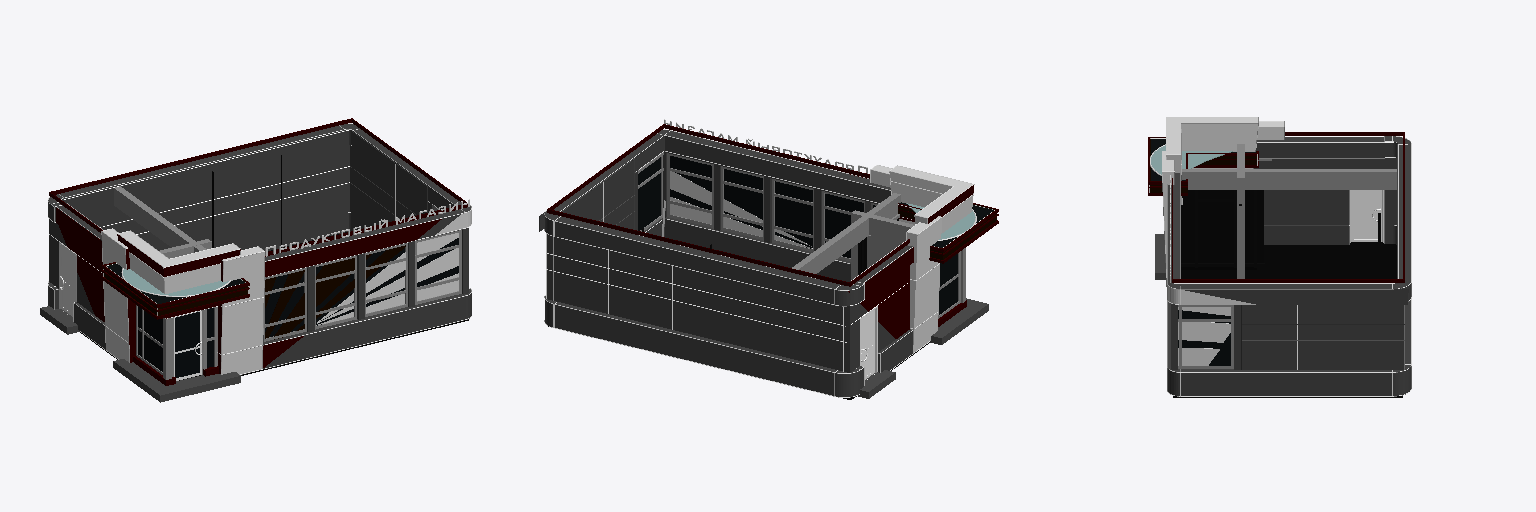
The model's file is busStation.obj.
The picture shows the model from 3 angles: view 1: azimuth 30°, elevation 25°; view 2: azimuth 150°, elevation 25°; view 3: azimuth 270°, elevation 25°; orthographic projection.
Parts seen in each view (by area): view 1: Box714, Line10, Box725, Box710, Line58, Box929, Line35, Line30, Line05, Line03, Box676, Line06 (+26 smaller); view 2: Box714, Line58, Line10, Box691, Box929, Line35, Line05, Box725, Box676, Line06, Box707, Box911 (+11 smaller); view 3: Box725, Line10, Line58, Box02, Box911, Box687, Box676, Line05, Line20, Line35, Line57, Box707 (+7 smaller).
Part boxes in pixels (x1,y1,x2,y2): Box714: (62,130,349,250); Line10: (48,213,471,368); Box725: (350,131,426,230); Box710: (218,247,264,374); Line58: (48,124,471,260); Box929: (102,229,135,362); Line35: (49,118,467,256); Line30: (265,219,441,276); Line05: (119,231,239,293); Line03: (113,359,240,402); Box676: (114,186,206,252); Line06: (58,224,104,321); Box714: (547,234,842,370); Line58: (545,130,912,305); Line10: (545,217,912,396); Box691: (670,156,812,248); Box929: (907,216,941,351); Line35: (547,124,909,286); Line05: (890,166,972,233); Box725: (563,160,633,229); Box676: (792,193,900,273); Line06: (848,266,909,338); Box707: (851,210,914,279); Box911: (844,303,895,372); Box725: (1242,305,1399,369); Line10: (1168,225,1410,395); Line58: (1168,136,1410,304); Box02: (1181,242,1396,278); Box911: (1254,143,1396,243); Box687: (1181,190,1263,262); Box676: (1182,169,1396,189); Line05: (1166,117,1257,204); Line20: (1185,289,1408,304); Line35: (1172,132,1404,282); Line57: (1167,136,1411,304); Box707: (1237,144,1244,278).
Size of the model in its own units: 385 by 149 by 267.